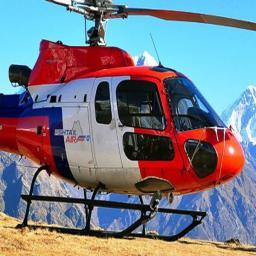helicopter: (3, 2, 248, 245)
